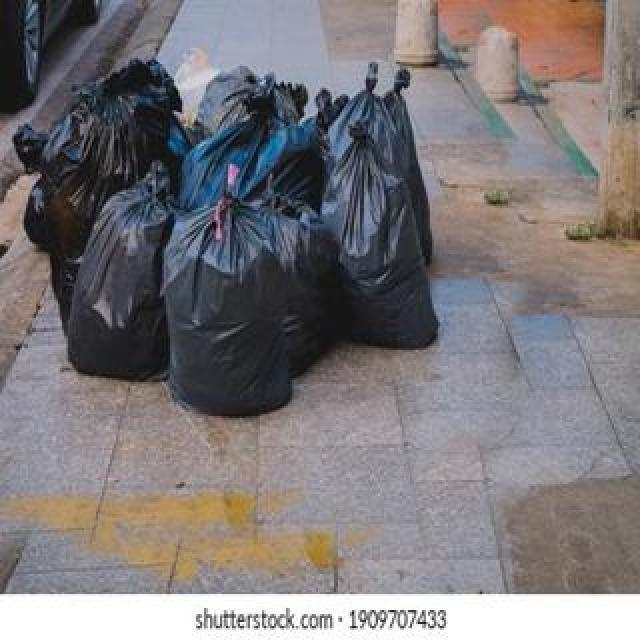high trash: (16, 61, 438, 415)
